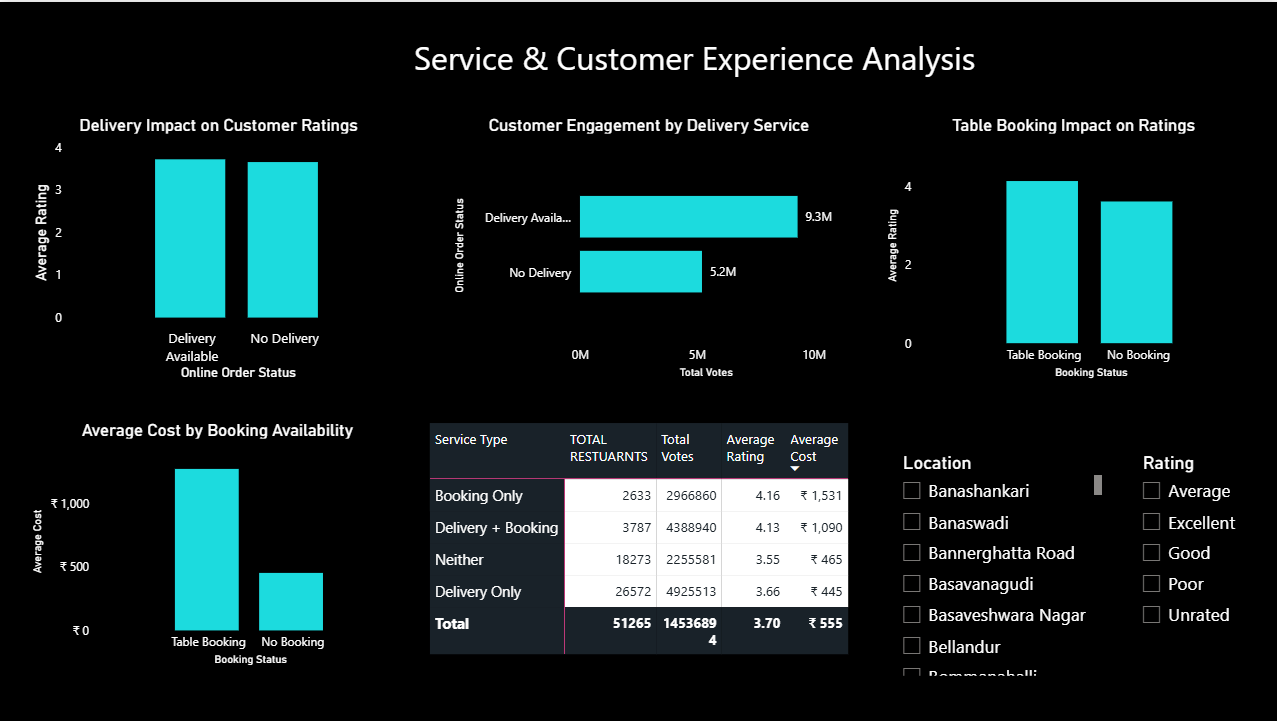

This screenshot's page, from the dashboard's own definition file:
{"tool":"powerbi","page":{"name":"Service & Customer Experience Analysis","canvas":[1280,720],"ordinal":2},"visuals":[{"type":"textbox","box":[396.6,28.8,596.9,67.2],"z":0},{"type":"slicer","fields":{"Values":["Dim_RatingCategory.rating_category"]},"box":[1130.4,445.2,139.9,223.2],"z":1000},{"type":"slicer","fields":{"Values":["Dim_Location.location"]},"box":[890.4,445.2,217.2,234],"z":2000},{"type":"clusteredColumnChart","title":"Delivery Impact on Customer Ratings","fields":{"Y":["Fact_Restaurants.Average Rating"],"Category":["Fact_Restaurants.Online Order Status"]},"box":[22.9,112.2,387.3,278.7],"z":3000},{"type":"clusteredBarChart","title":"Customer Engagement by Delivery Service","fields":{"Y":["Fact_Restaurants.Total Votes"],"Category":["Fact_Restaurants.Online Order Status"]},"box":[444,112.2,405.4,278.7],"z":4000},{"type":"clusteredColumnChart","title":"Table Booking Impact on Ratings","fields":{"Y":["Fact_Restaurants.Average Rating"],"Category":["Fact_Restaurants.Booking Status"]},"box":[875.9,112.2,389.7,278.7],"z":5000},{"type":"clusteredColumnChart","title":"Average Cost by Booking Availability","fields":{"Y":["Fact_Restaurants.Average Cost"],"Category":["Fact_Restaurants.Booking Status"]},"box":[27.7,417.4,380,250.9],"z":6000},{"type":"pivotTable","fields":{"Rows":["Fact_Restaurants.Service Type"],"Values":["Fact_Restaurants.TOTAL RESTUARNTS","Fact_Restaurants.Total Votes","Fact_Restaurants.Average Rating","Fact_Restaurants.Average Cost"]},"box":[424.7,416.2,465.7,292],"z":7000}]}

Visuals, with their boxes in screenshot pixels (x1, y1, x2, y2), scaled from the page's 1280x720 canvas onto the 1277x721 screenshot:
textbox: (x1=396, y1=29, x2=991, y2=96)
slicer - Dim_RatingCategory.rating_category: (x1=1128, y1=446, x2=1267, y2=669)
slicer - Dim_Location.location: (x1=888, y1=446, x2=1105, y2=680)
"Delivery Impact on Customer Ratings" clusteredColumnChart: (x1=23, y1=112, x2=409, y2=391)
"Customer Engagement by Delivery Service" clusteredBarChart: (x1=443, y1=112, x2=847, y2=391)
"Table Booking Impact on Ratings" clusteredColumnChart: (x1=874, y1=112, x2=1263, y2=391)
"Average Cost by Booking Availability" clusteredColumnChart: (x1=28, y1=418, x2=407, y2=669)
pivotTable - Fact_Restaurants.Service Type x Fact_Restaurants.TOTAL RESTUARNTS: (x1=424, y1=417, x2=888, y2=709)
